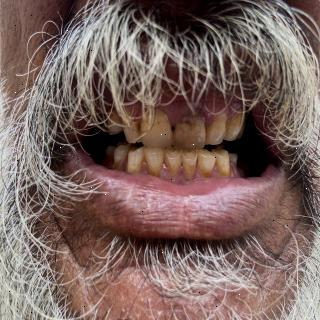cavities: (179, 109, 206, 147)
plaque: (143, 110, 175, 134), (212, 113, 226, 135), (110, 161, 120, 173)
stains: (226, 108, 244, 138), (145, 157, 165, 179), (197, 158, 216, 181), (181, 158, 199, 182), (165, 157, 184, 179), (125, 156, 143, 178), (216, 160, 232, 182), (145, 146, 167, 161), (130, 119, 144, 141), (184, 146, 198, 166), (129, 141, 144, 159), (166, 148, 181, 164), (200, 146, 214, 162), (119, 142, 135, 156), (215, 146, 229, 160)
